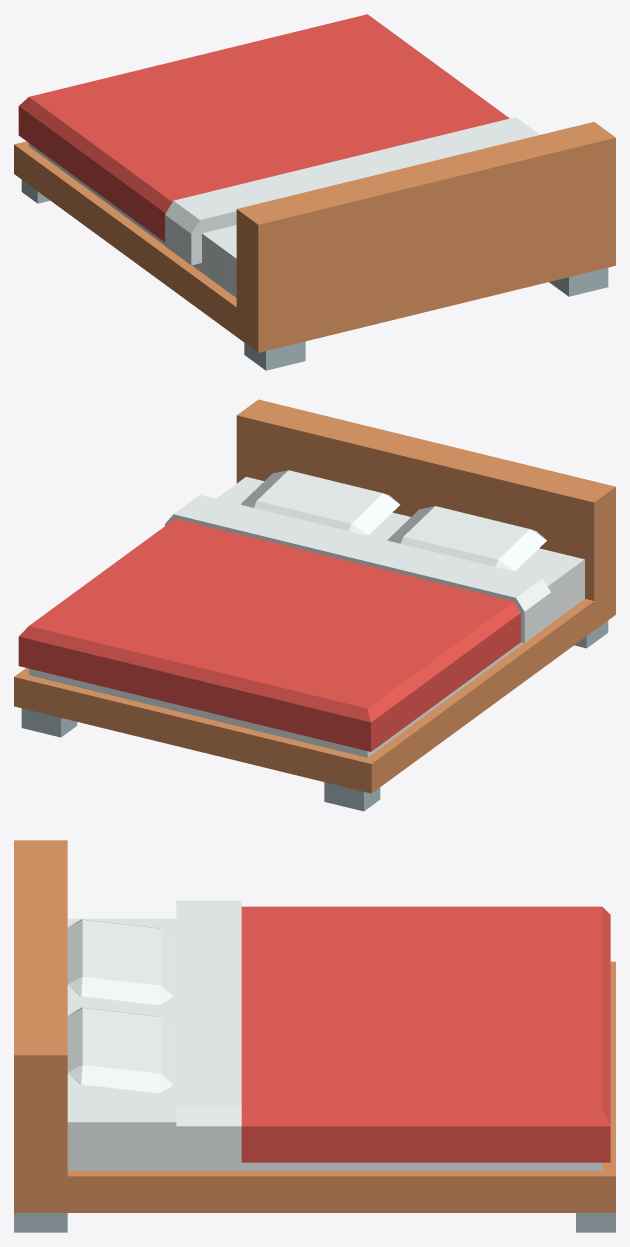
The model's file is bedDouble.glb.
3 views of the same model, one above another, from view 1: azimuth 30°, elevation 25°; view 2: azimuth 150°, elevation 25°; view 3: azimuth 270°, elevation 25° (orthographic). The views are drawn at different scales.
Visible parts, largest first — view 1: bedDouble; view 2: bedDouble; view 3: bedDouble.
Part boxes in pixels (box(x1,y1,x2,y2)): bedDouble: box(14, 14, 615, 370); bedDouble: box(14, 399, 615, 811); bedDouble: box(14, 840, 615, 1232).
Bounding box in the file's own units: 2.09 × 0.8194 × 2.46.
